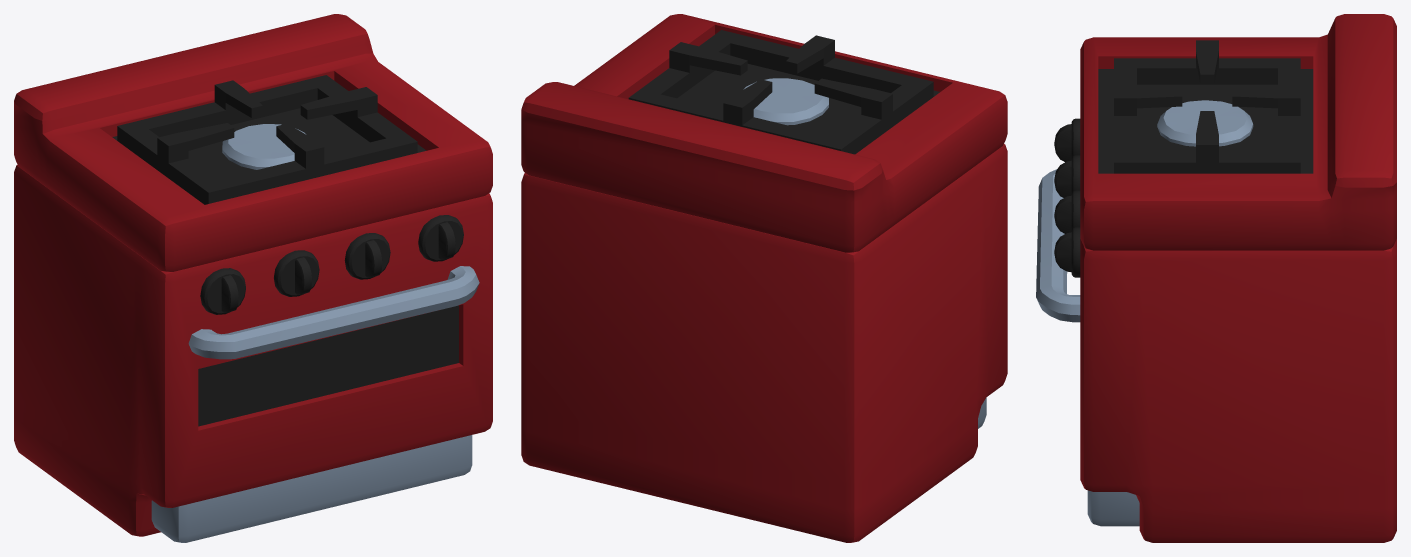
File: Environment_Oven.fbx
3 views of the same model, side by side, from view 1: azimuth 30°, elevation 25°; view 2: azimuth 150°, elevation 25°; view 3: azimuth 270°, elevation 25° (orthographic). The views are drawn at different scales.
Parts seen in each view (by area): view 1: Environment_Oven; view 2: Environment_Oven; view 3: Environment_Oven.
Part boxes in pixels (left/top/right/bottom): Environment_Oven: left=14, top=14, right=492, bottom=542; Environment_Oven: left=521, top=14, right=1007, bottom=542; Environment_Oven: left=1036, top=14, right=1396, bottom=542.
Bounding box in the file's own units: 214 × 223 × 196.
